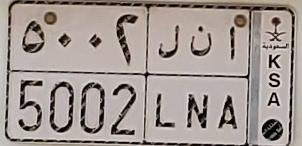0: (49, 32, 75, 135), (80, 33, 105, 135)
2: (110, 14, 139, 137)
5: (17, 20, 44, 132)
A: (217, 25, 238, 131)
L: (155, 24, 181, 129)
N: (187, 24, 213, 131)
